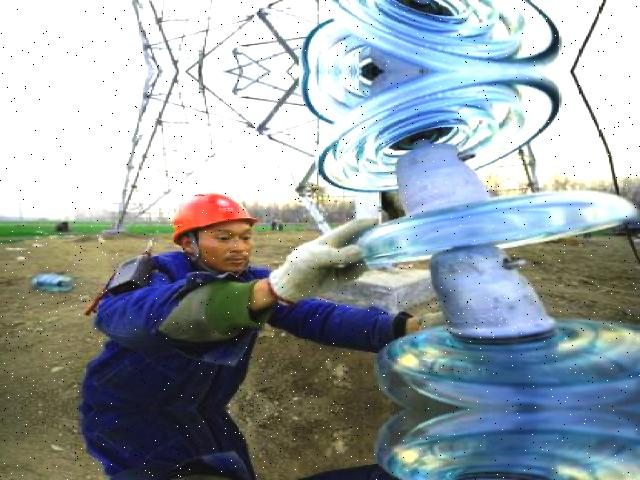Helmet: (166, 187, 269, 249)
